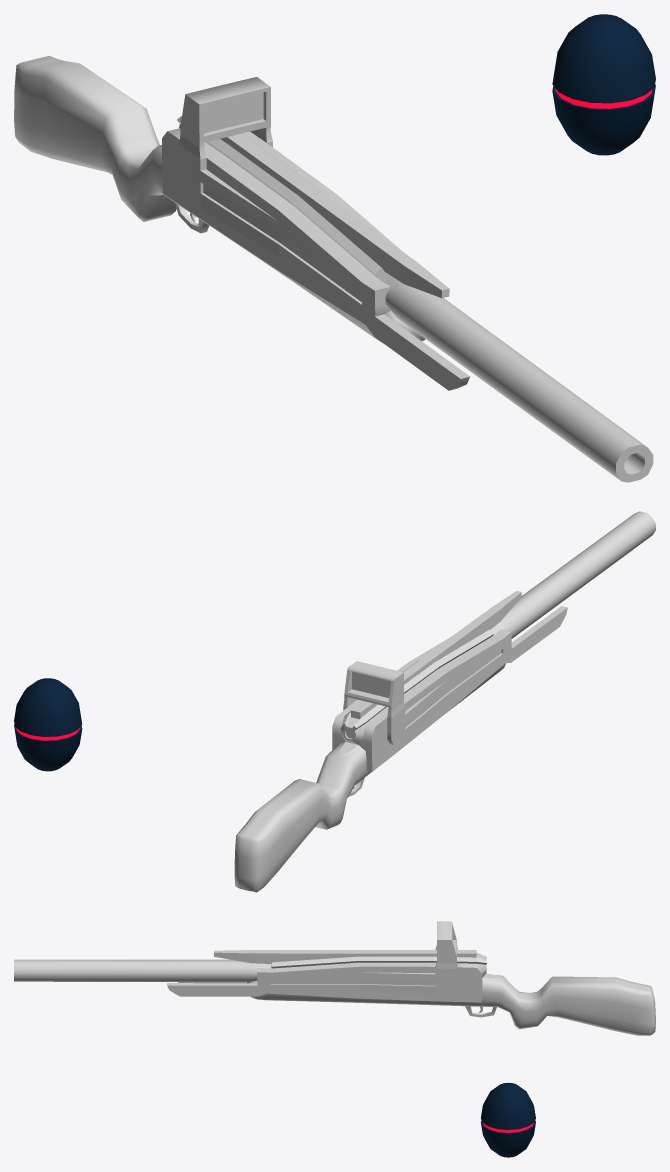
File: Weapons.fbx
3 renders of one model, top to bottom at view 1: azimuth 30°, elevation 25°; view 2: azimuth 150°, elevation 25°; view 3: azimuth 270°, elevation 25°, orthographic. The views are drawn at different scales.
Parts seen in each view (by area): view 1: Rifle_0, Grenade_0; view 2: Rifle_0, Grenade_0; view 3: Rifle_0, Grenade_0.
Boxes of the visible parts, x1,y1,x2,y2 form: Rifle_0: (14,55,653,482); Grenade_0: (552,14,655,155); Rifle_0: (234,511,655,892); Grenade_0: (14,678,82,771); Rifle_0: (14,921,655,1035); Grenade_0: (480,1082,535,1157).
Size of the model in its own units: 63.86 by 25.01 by 129.
